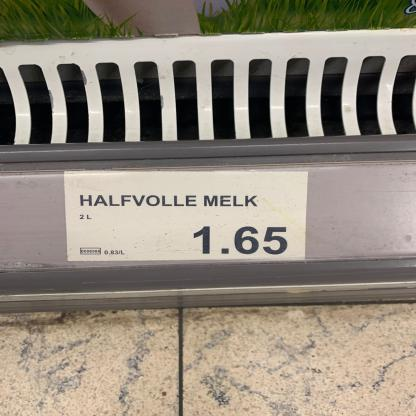prtg: (65, 171, 310, 262)
